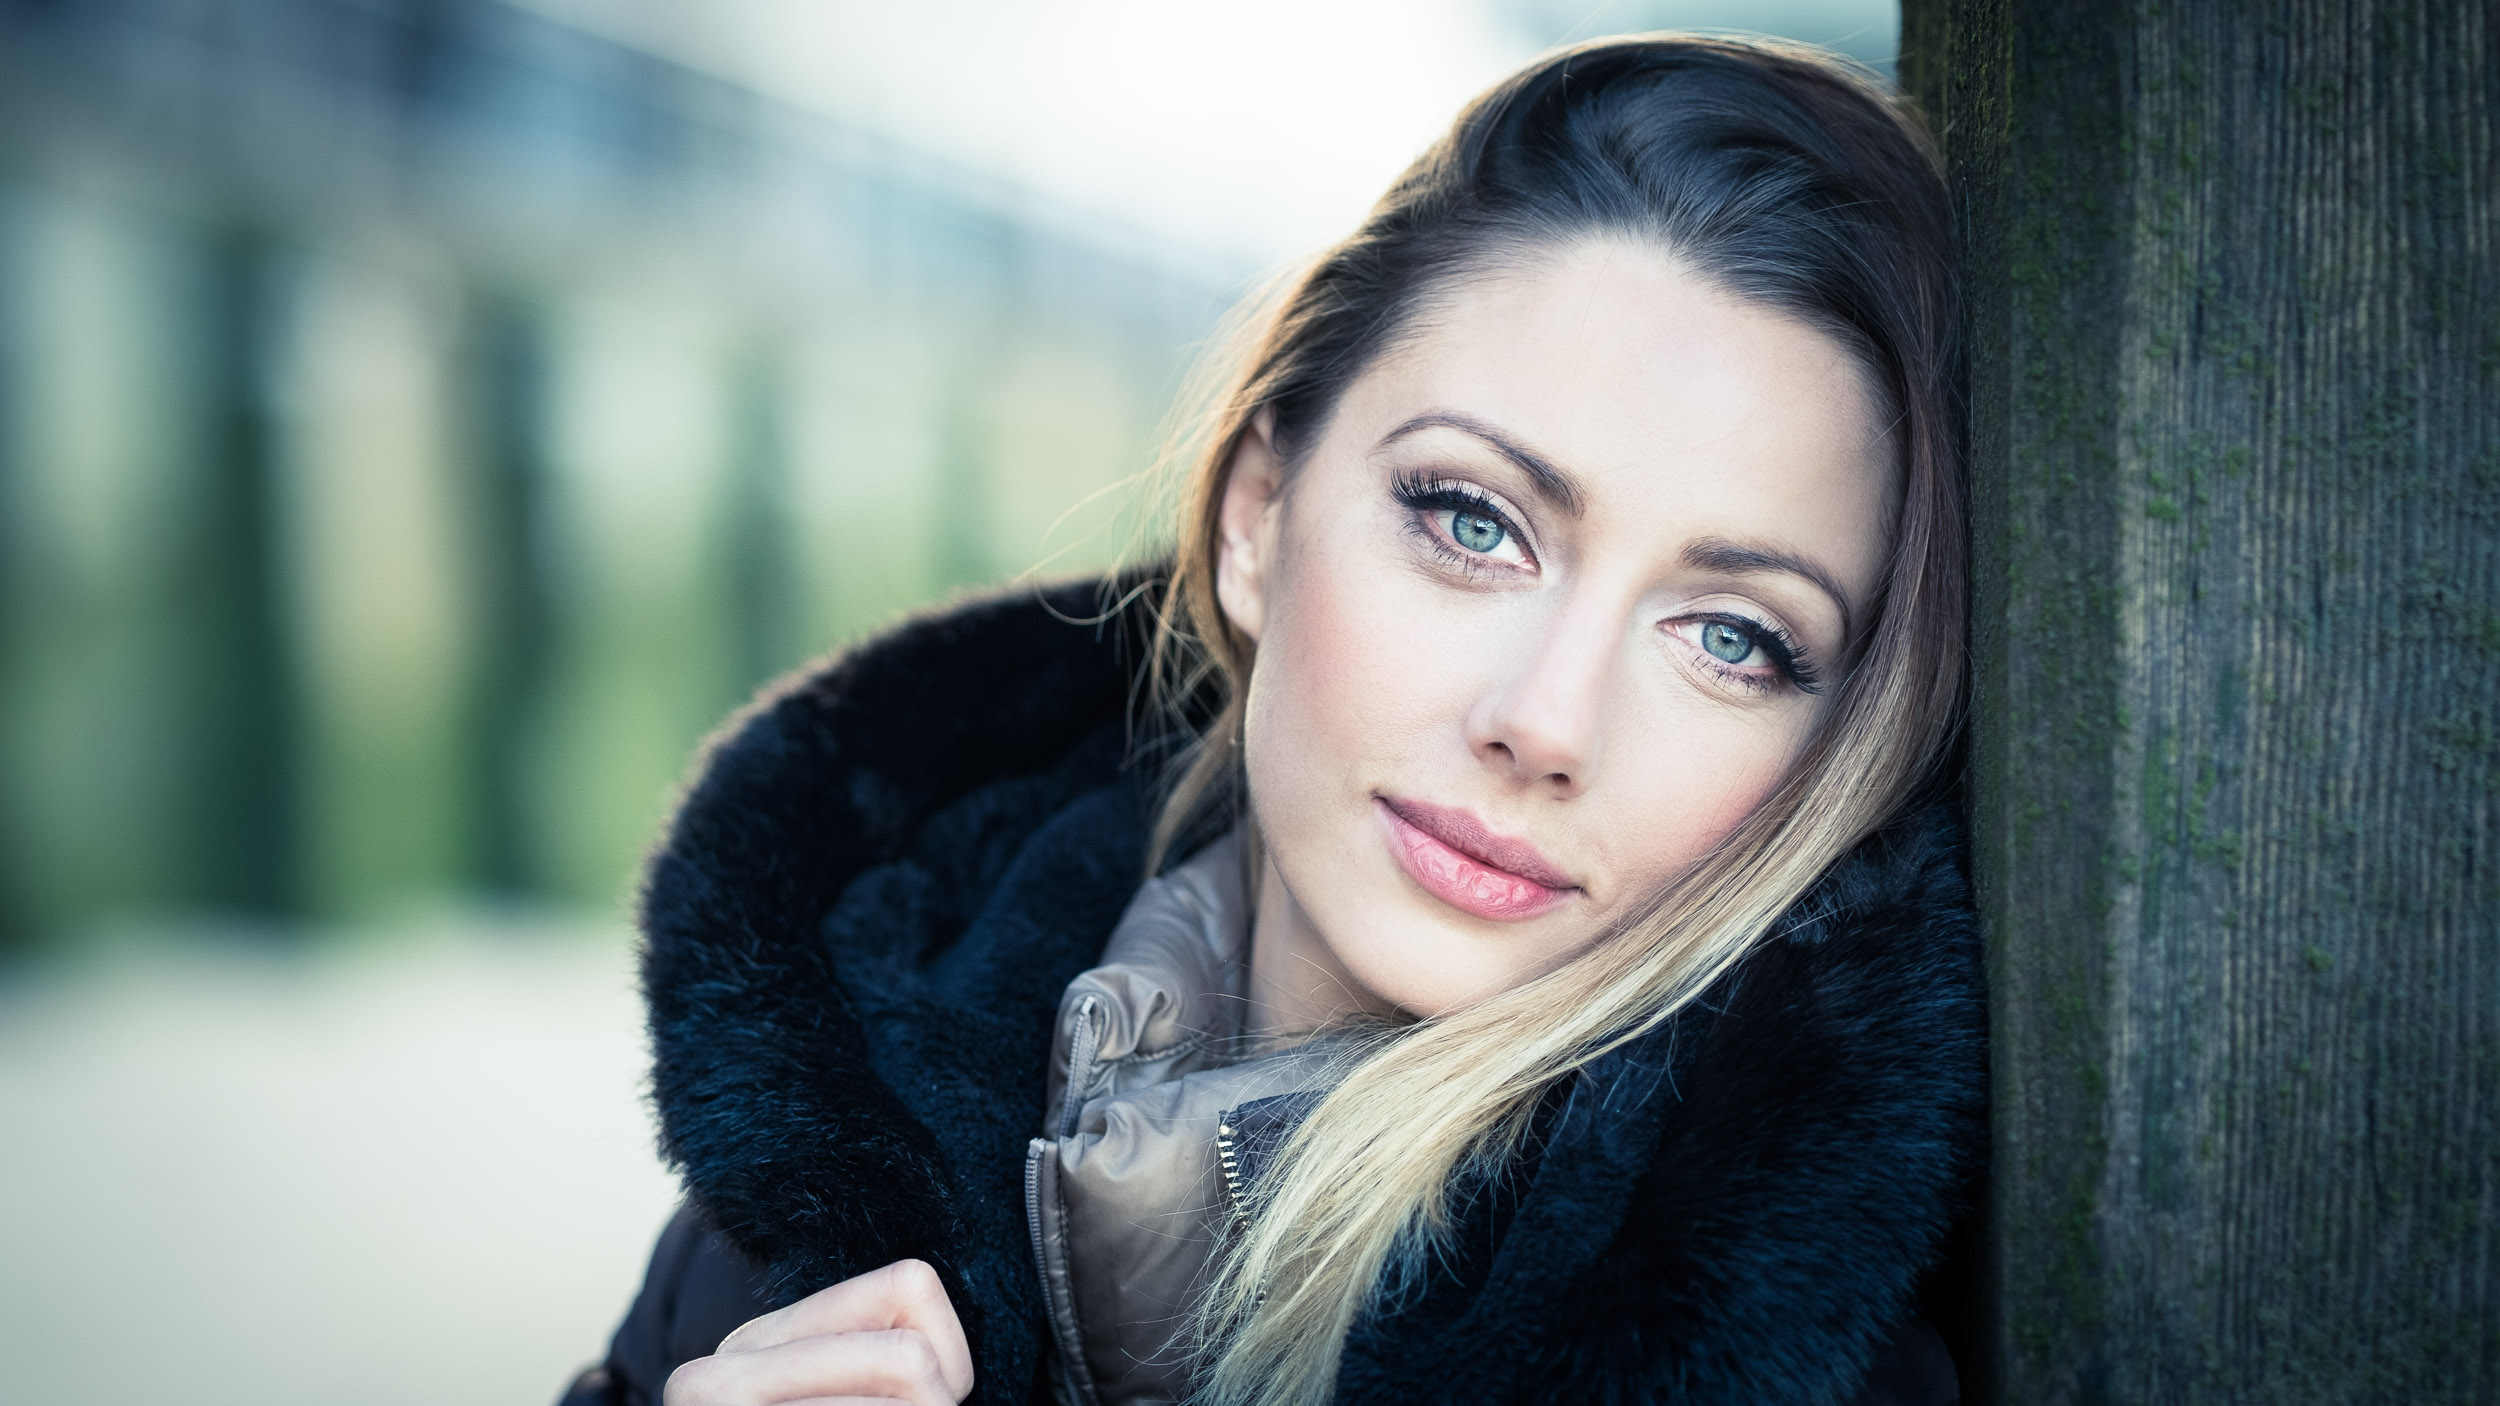bare: (1261, 607, 1771, 1001)
